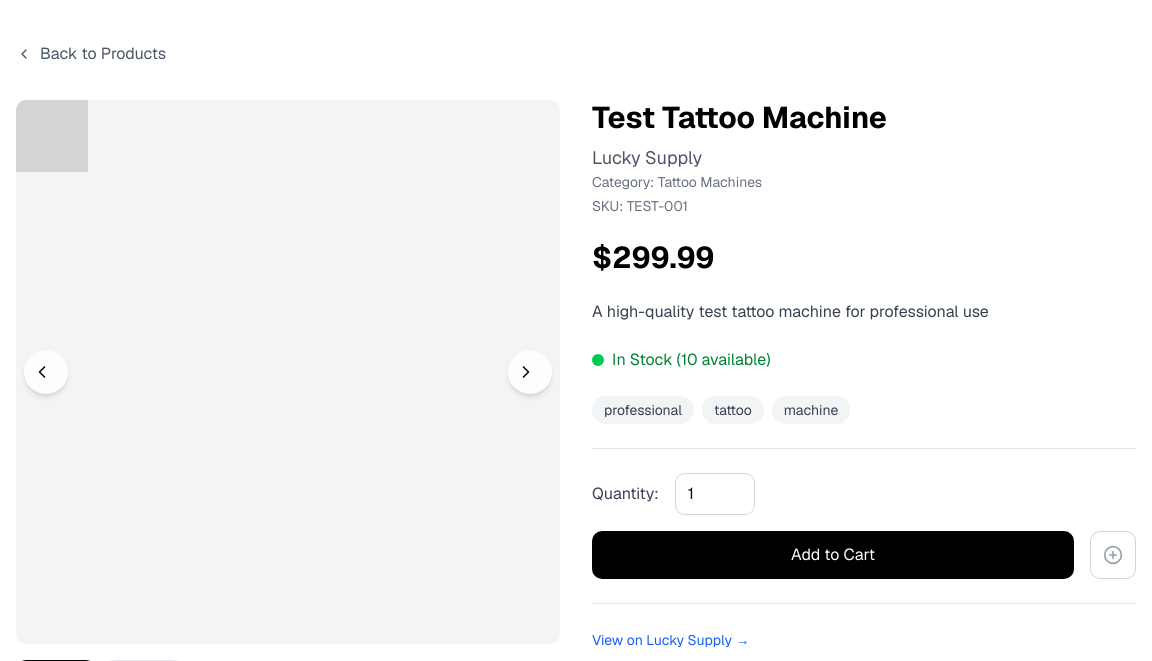
Test case: ProductDetail › allows quantity adjustment with stock limits
Click the number field labelled "Quantity:". click: x=715, y=494
box: [675,473,755,515]
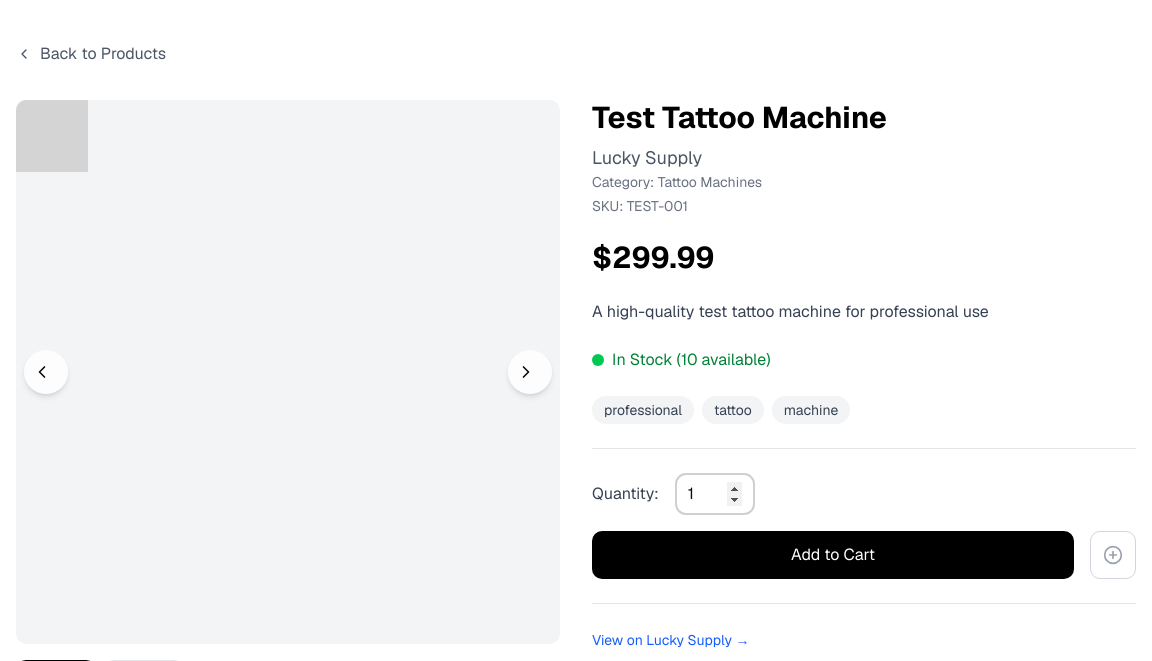
Type keys "{Control>}a{/Control}"
Type keys "5"
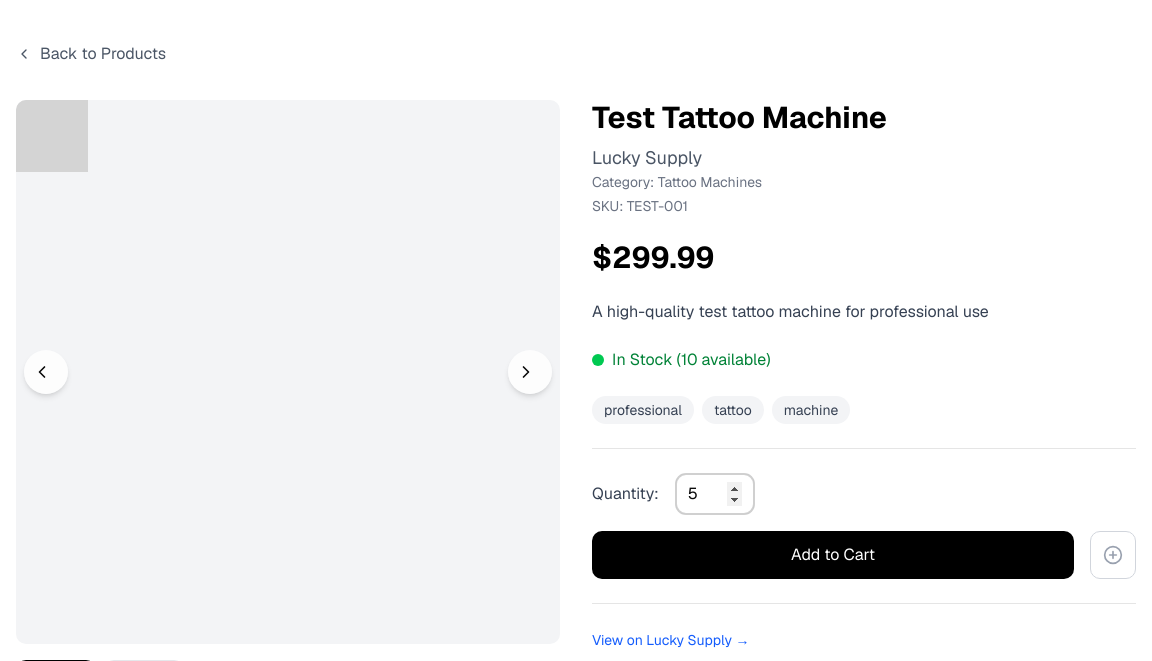
Check: the number field labelled "Quantity:" holds "5", box [675,473,755,515]
